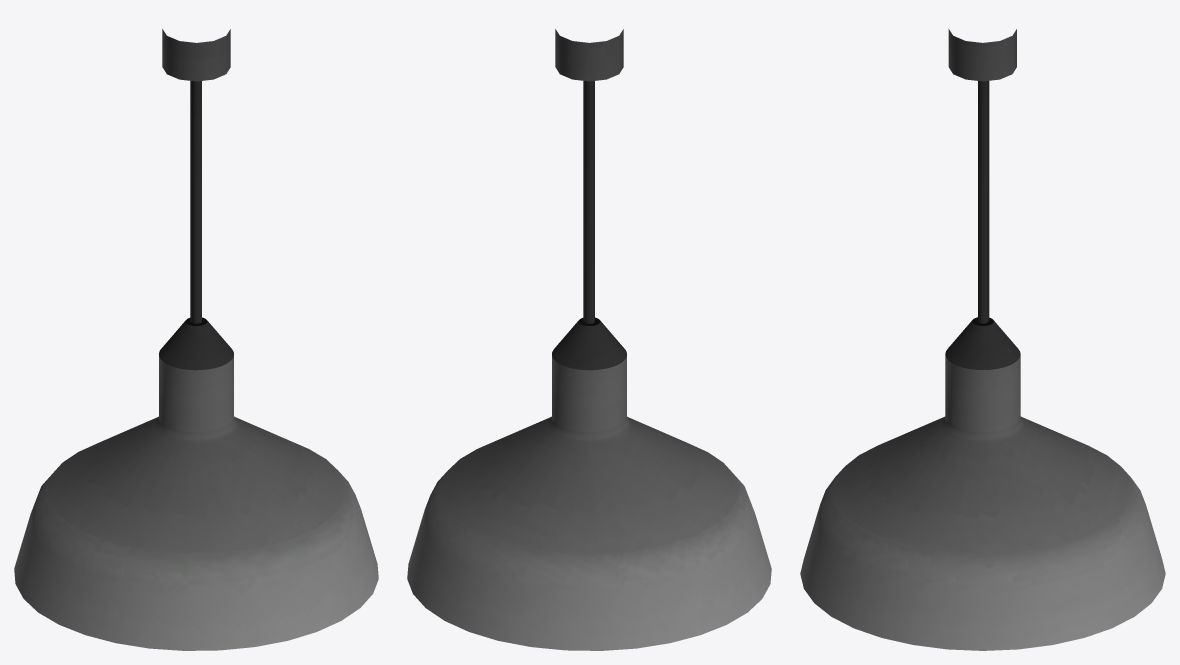
3 renders of one model, left to right at view 1: azimuth 30°, elevation 25°; view 2: azimuth 150°, elevation 25°; view 3: azimuth 270°, elevation 25°, orthographic.
Parts seen in each view (by area): view 1: body0_model0_lod0_mesh0; view 2: body0_model0_lod0_mesh0; view 3: body0_model0_lod0_mesh0.
Part boxes in pixels (box(x1,y1,x2,y2)): body0_model0_lod0_mesh0: box(14, 29, 378, 650); body0_model0_lod0_mesh0: box(407, 29, 771, 650); body0_model0_lod0_mesh0: box(800, 29, 1165, 650).
Bounding box in the file's own units: 31.59 × 52 × 31.59.
Materials: 1 (1 with a texture image).
